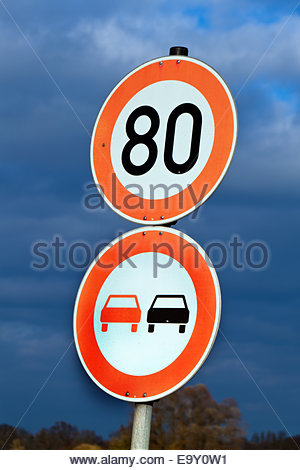Speed_limit_80km: (88, 58, 238, 225)
